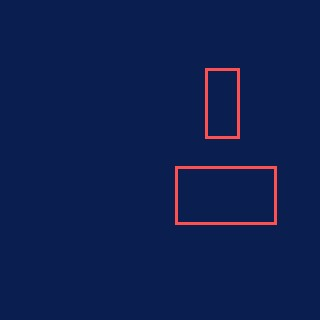bird: (175, 166, 276, 224)
drone: (205, 68, 239, 138)
